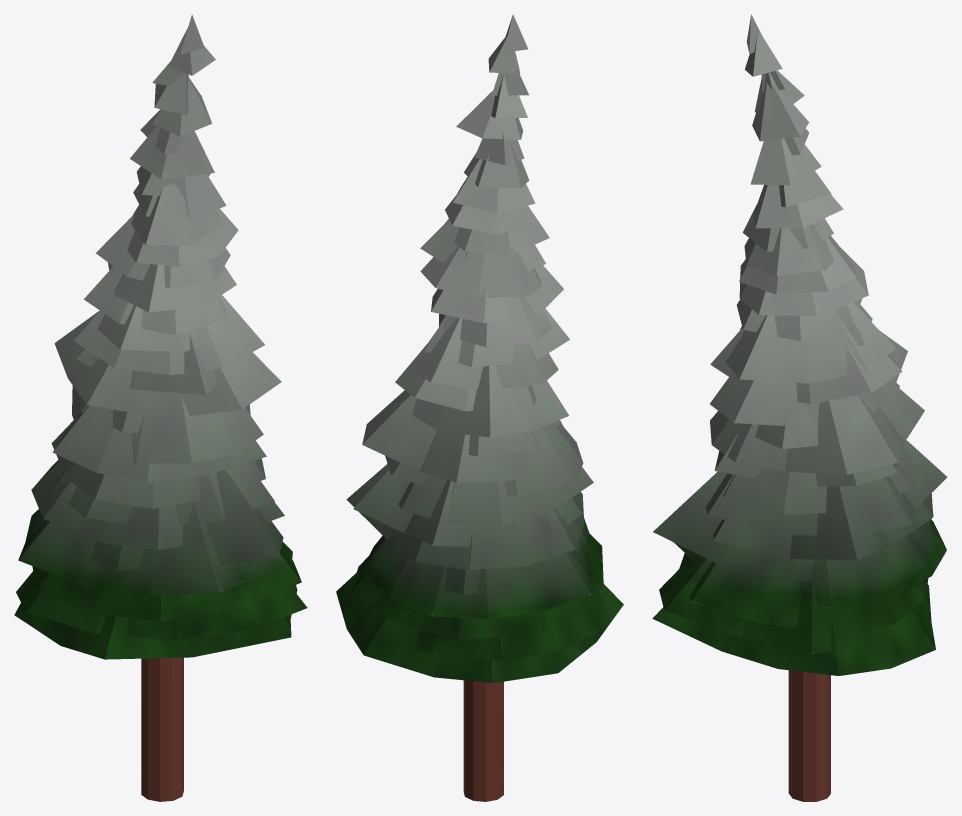
The model's file is TallSpineTree.fbx.
The picture shows the model from 3 angles, left to right: view 1: azimuth 30°, elevation 25°; view 2: azimuth 150°, elevation 25°; view 3: azimuth 270°, elevation 25°; orthographic projection. The views are drawn at different scales.
Visible parts, largest first — view 1: Cylinder.008; view 2: Cylinder.008; view 3: Cylinder.008.
Part boxes in pixels (box(x1,y1,x2,y2)): Cylinder.008: box(14, 14, 307, 801); Cylinder.008: box(336, 14, 623, 801); Cylinder.008: box(652, 14, 947, 801).
Bounding box in the file's own units: 2.6 × 7.36 × 2.53.
1 material, 1 textured.
